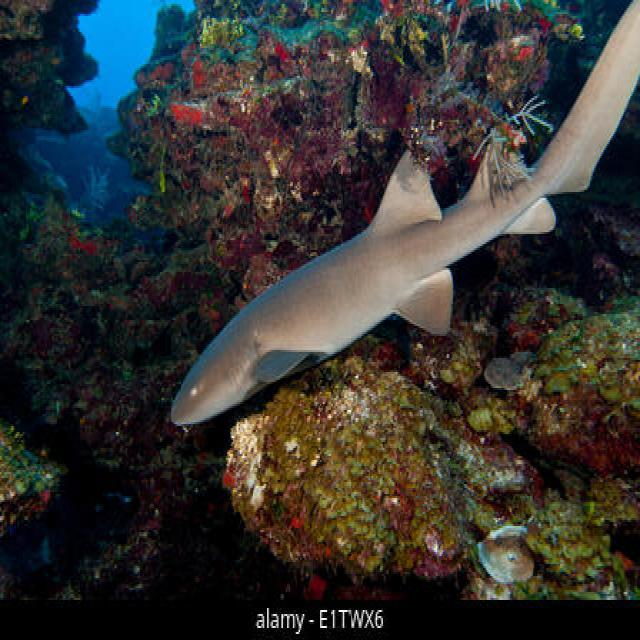Shark: (163, 4, 640, 438)
